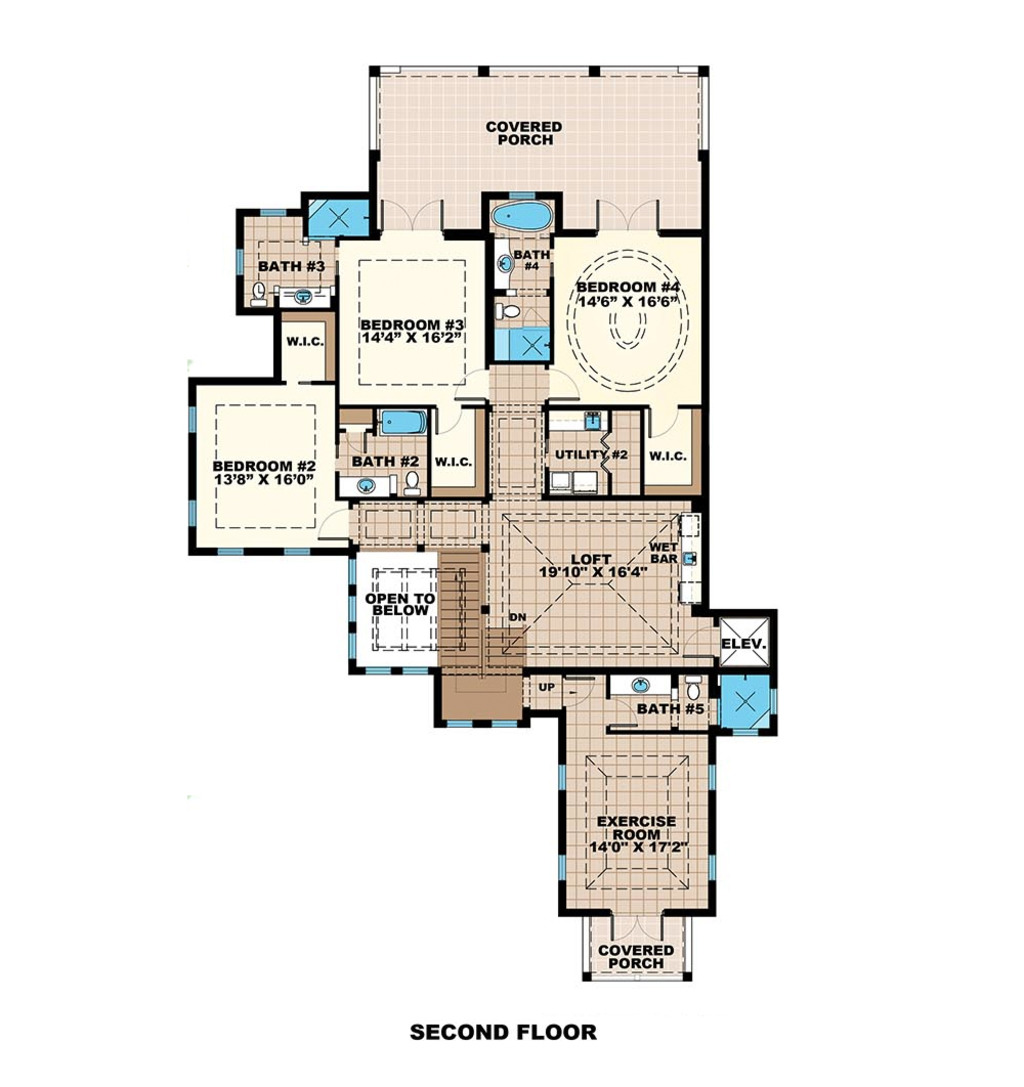door: (589, 193, 662, 239), (375, 193, 444, 237), (543, 365, 582, 406), (639, 405, 679, 439), (315, 511, 352, 543), (434, 401, 464, 432)
large_sink: (612, 673, 671, 696), (681, 672, 715, 700), (401, 472, 428, 501), (487, 297, 518, 322)
small_sink: (609, 673, 671, 697), (335, 472, 389, 496), (490, 241, 513, 282)
stairs: (434, 546, 524, 722)
tub: (484, 199, 557, 236), (373, 407, 432, 432)
windows: (341, 553, 365, 661), (181, 395, 201, 442), (182, 492, 202, 530)
